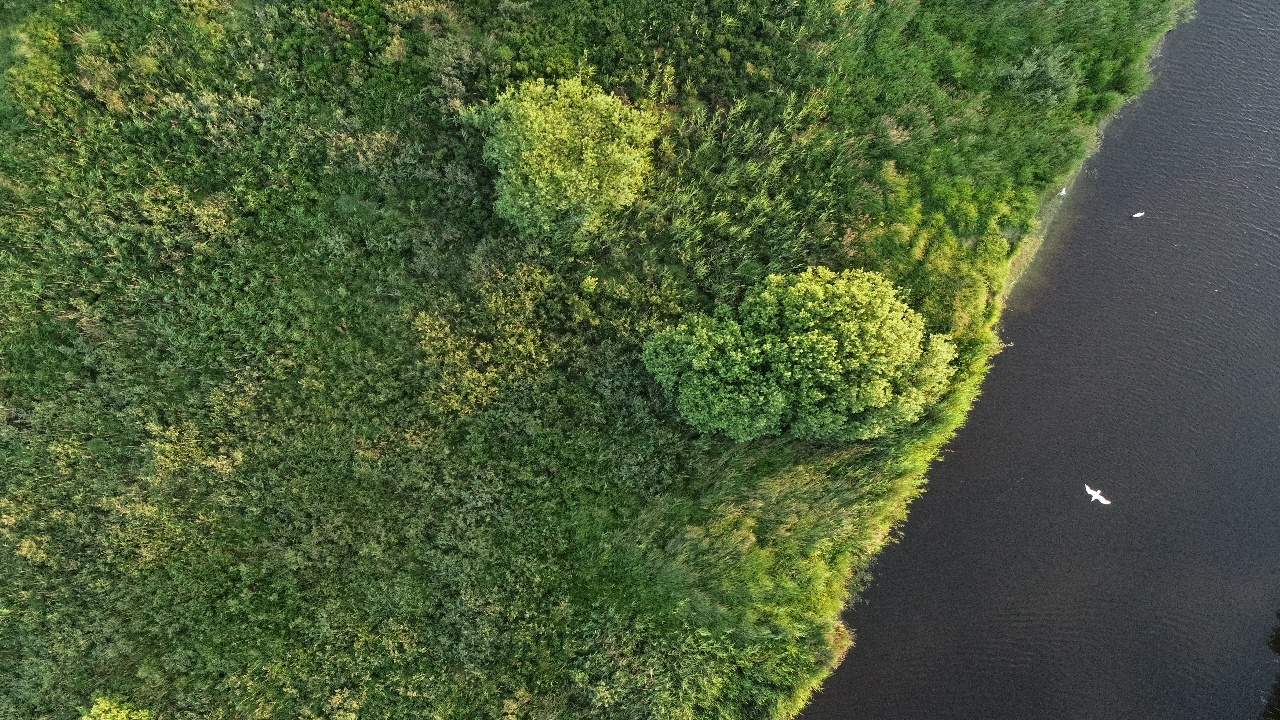Bird: (1076, 474, 1120, 514), (1122, 199, 1157, 231), (1048, 173, 1083, 205)
